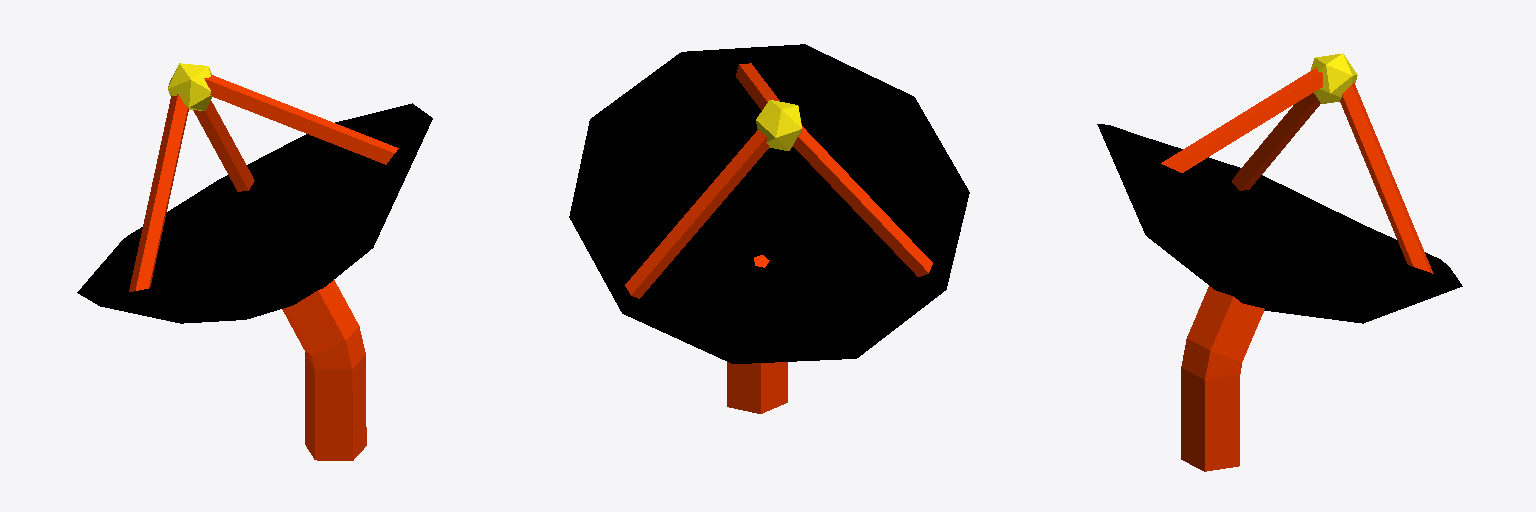
The model's file is scanner.obj.
3 renders of one model, left to right at view 1: azimuth 30°, elevation 25°; view 2: azimuth 150°, elevation 25°; view 3: azimuth 270°, elevation 25°, orthographic.
Parts seen in each view (by area): view 1: Icosphere.007_Icosphere.012; view 2: Icosphere.007_Icosphere.012; view 3: Icosphere.007_Icosphere.012.
Part boxes in pixels (left/top/right/bottom): Icosphere.007_Icosphere.012: left=77, top=63, right=432, bottom=460; Icosphere.007_Icosphere.012: left=569, top=44, right=969, bottom=413; Icosphere.007_Icosphere.012: left=1097, top=53, right=1462, bottom=471.
Bounding box in the file's own units: 4.35 × 4.49 × 4.13.